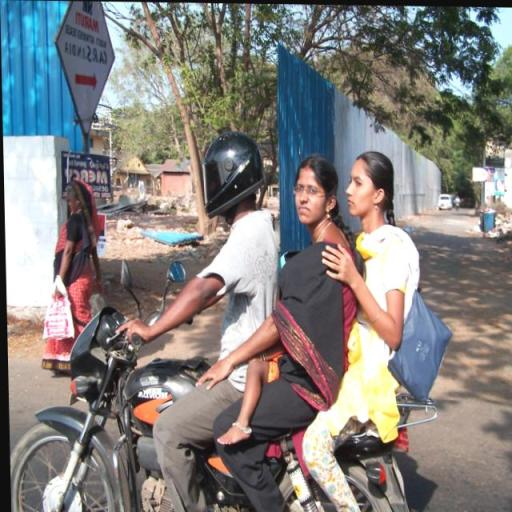tripple riding: (125, 135, 408, 512)
